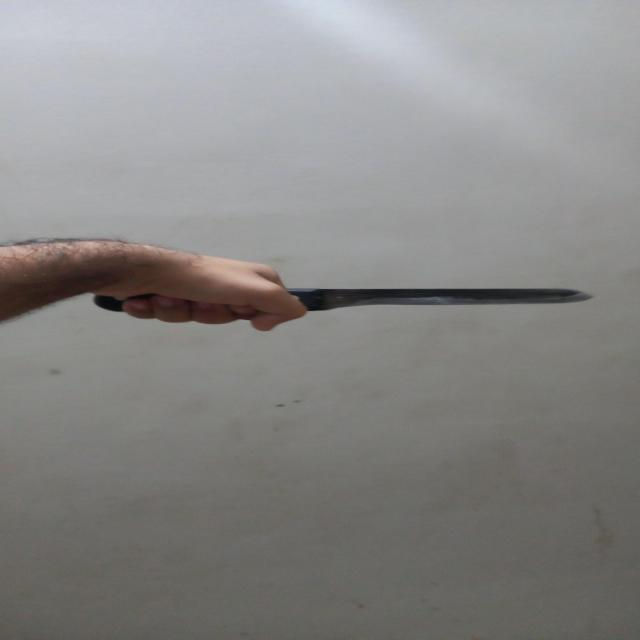Knife: (0, 238, 306, 331), (95, 288, 595, 312)
